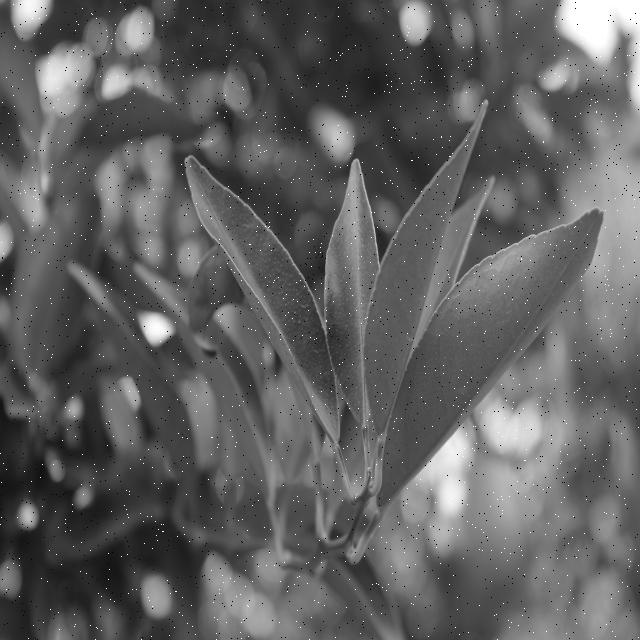healthy: (384, 206, 603, 509), (178, 156, 341, 472), (323, 142, 391, 442)
